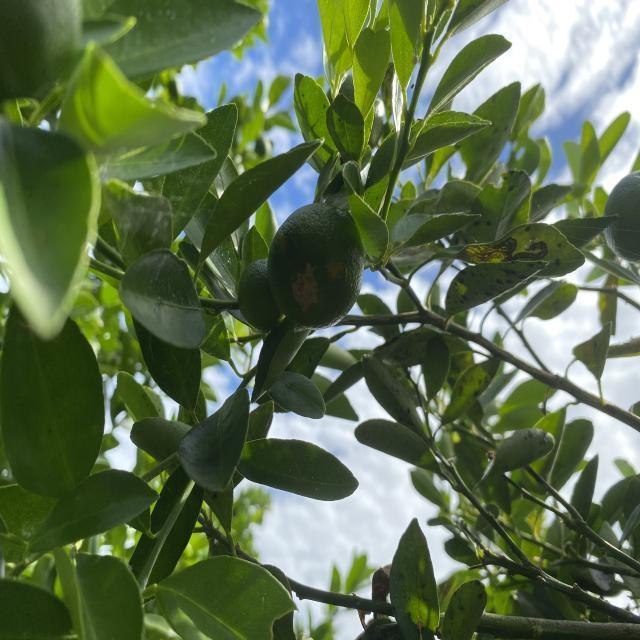thrips: (271, 201, 362, 333)
